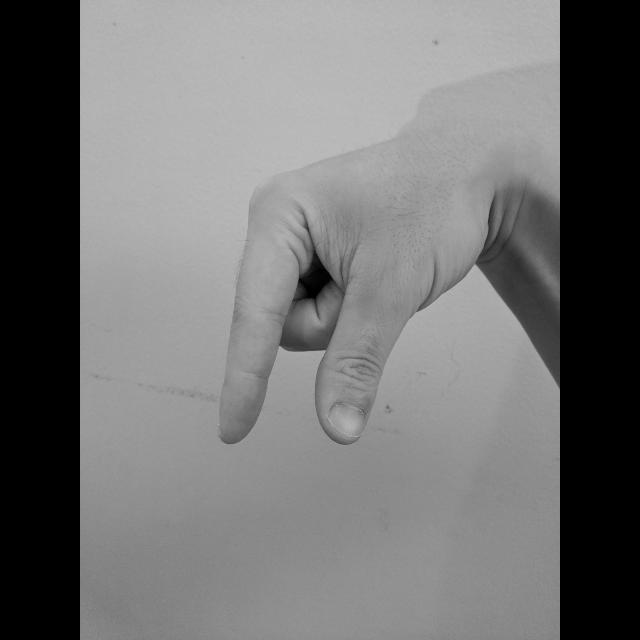Q: (213, 109, 509, 451)
